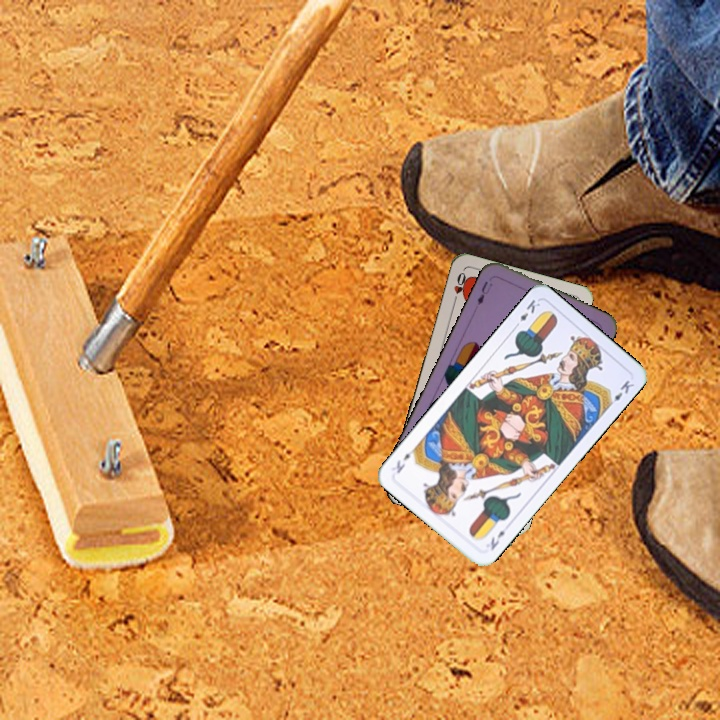EK: (510, 295, 543, 331), (486, 526, 508, 553)
EU: (473, 277, 495, 307)
HO: (449, 268, 469, 307)
